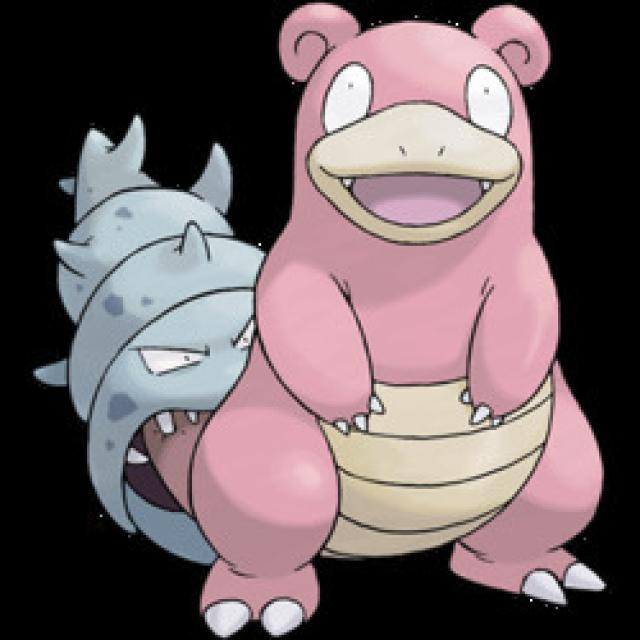Slowbro: (162, 8, 604, 601)
